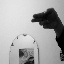h: (30, 7, 57, 30)
